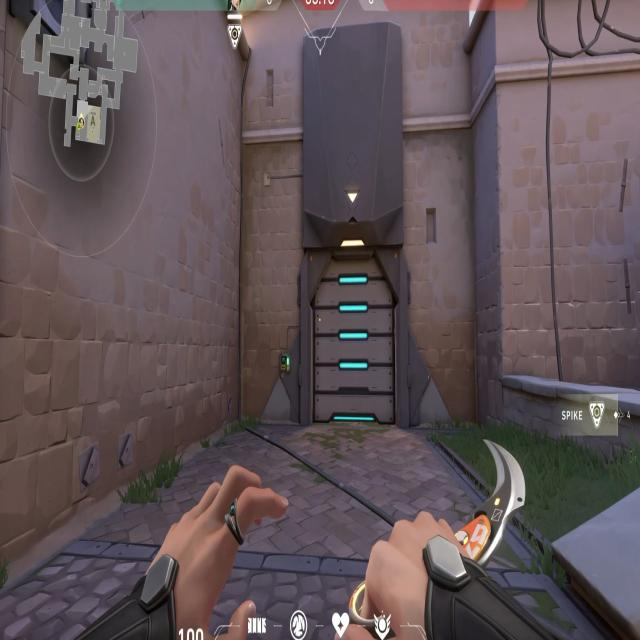A_Door: (297, 236, 408, 450)
